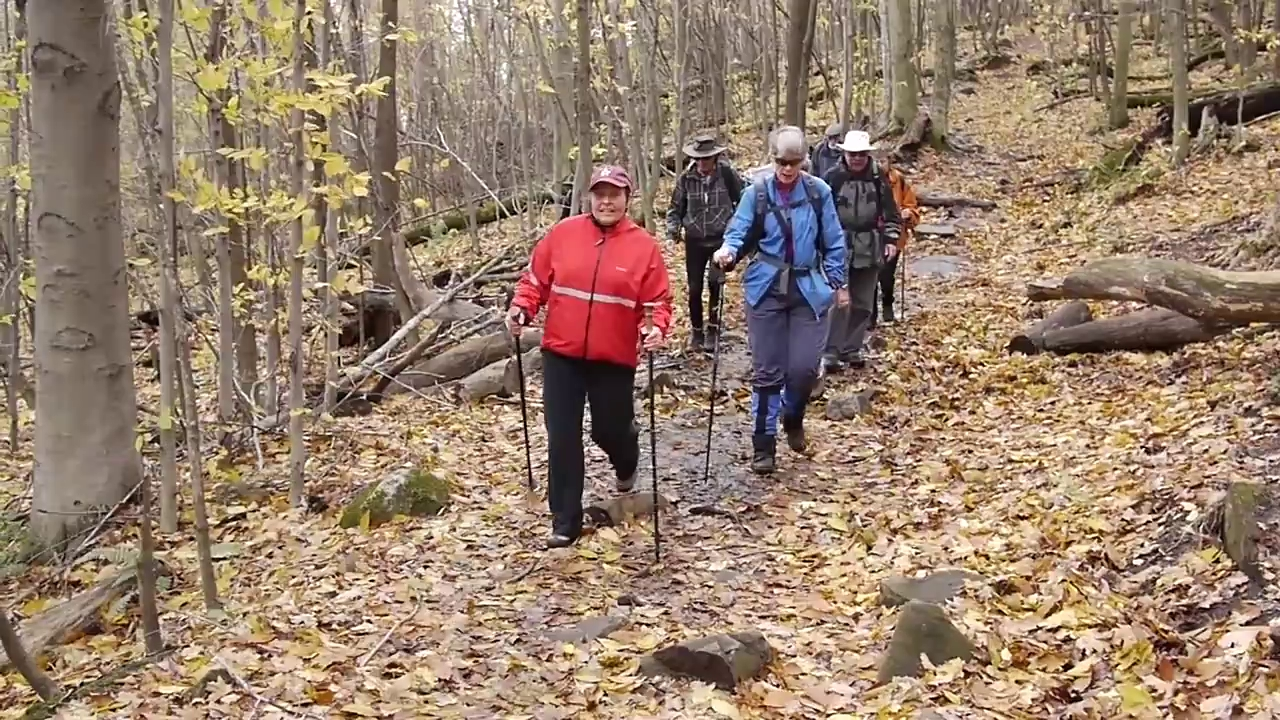person: (503, 165, 672, 547), (714, 125, 846, 472), (820, 131, 901, 372), (668, 136, 745, 351)
